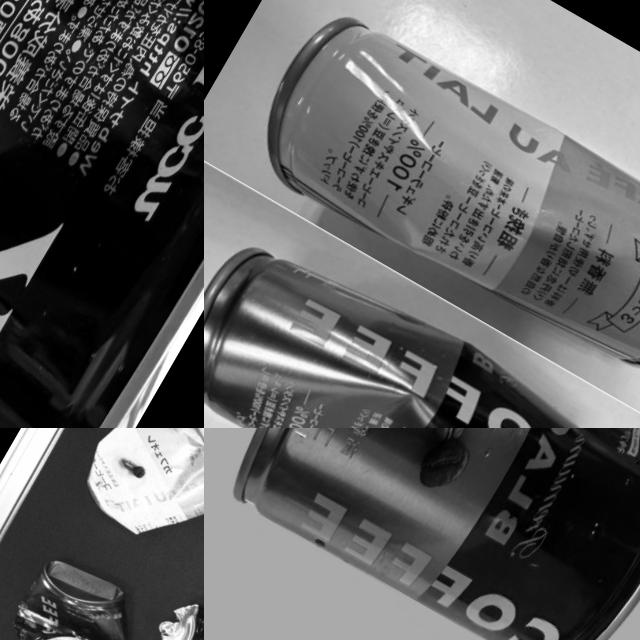Can: (239, 1, 640, 406), (204, 212, 640, 428), (217, 428, 640, 640), (0, 0, 204, 428), (65, 428, 204, 576), (0, 544, 159, 640)
